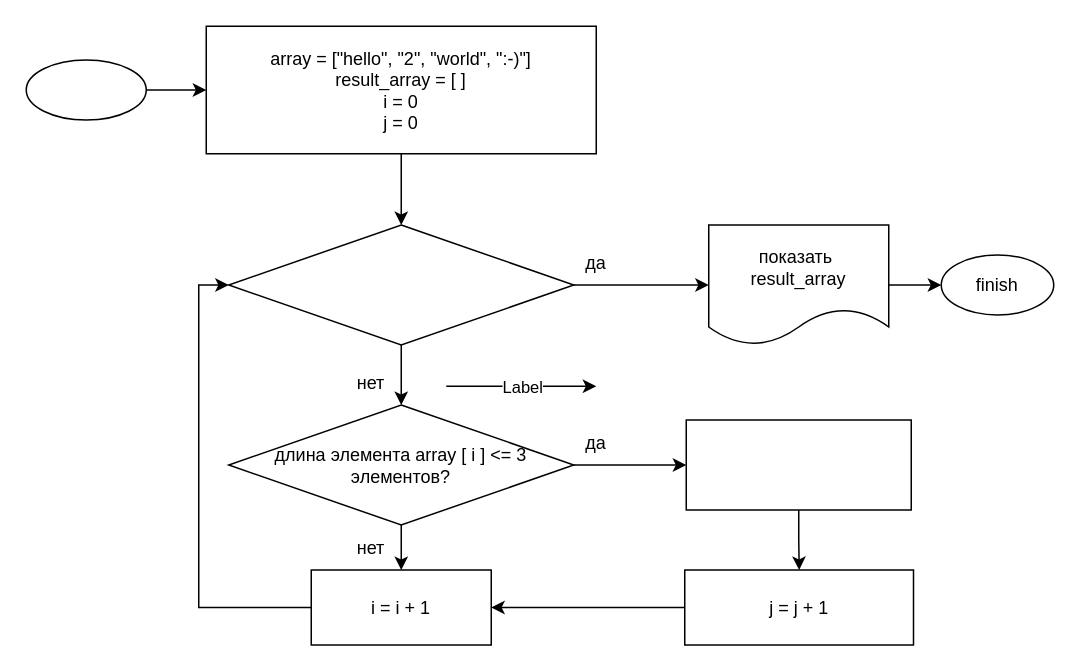
Some shapes in this 1080 by 672 pixel diagram are drawn without their labels. The box of each missing label's shape, as (x1, y1, x2, y2) in pixels:
i = количества элементов в array?: (227, 224, 574, 345)
result_array [ j ] = array [ i ]: (685, 418, 911, 510)
start: (25, 58, 146, 120)
